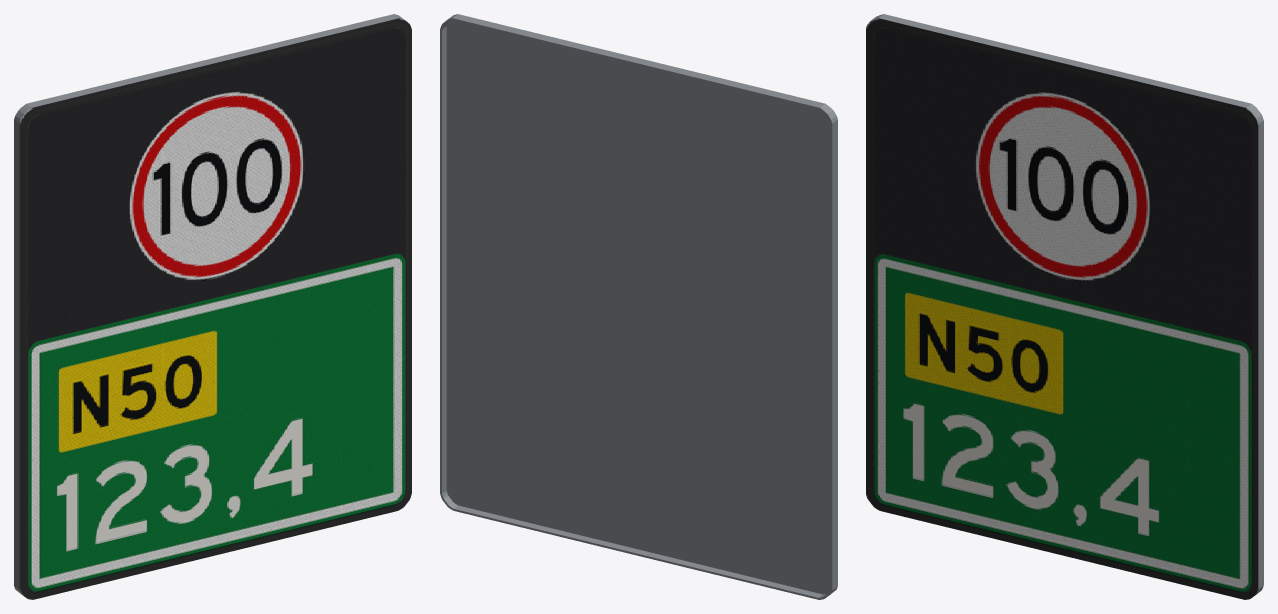
3 renders of one model, left to right at view 1: azimuth 30°, elevation 25°; view 2: azimuth 150°, elevation 25°; view 3: azimuth 330°, elevation 25°, orthographic.
Visible parts, largest first — view 1: cat_e5ac33d87fd776a1; view 2: cat_e5ac33d87fd776a1; view 3: cat_e5ac33d87fd776a1.
Boxes of the visible parts, x1=… form: cat_e5ac33d87fd776a1: x1=14, y1=14, x2=411, y2=599; cat_e5ac33d87fd776a1: x1=440, y1=14, x2=837, y2=599; cat_e5ac33d87fd776a1: x1=866, y1=14, x2=1263, y2=599.
Bounding box in the file's own units: 0.6 × 0.015 × 0.72.
2 materials, 1 textured.
